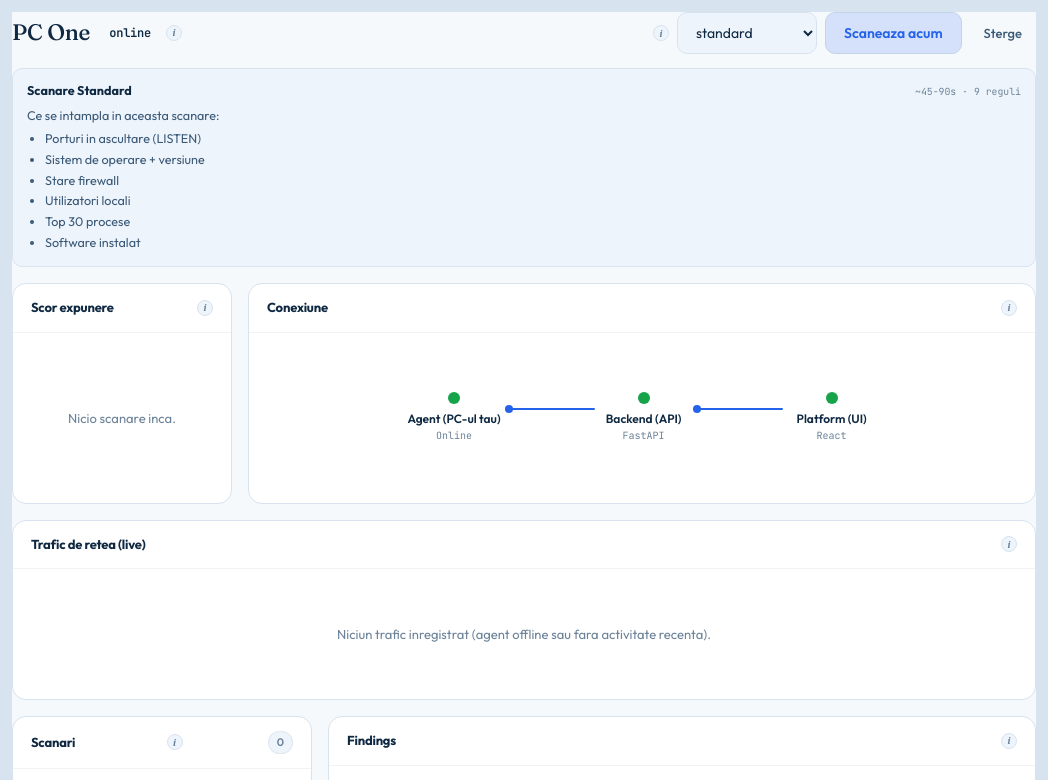
Scenario: DeviceWorkspace › schimba explainer-ul cand selectezi deep
Select "deep" in the dropdown named "tip scanare" at (747, 33), box [677,12,817,54]
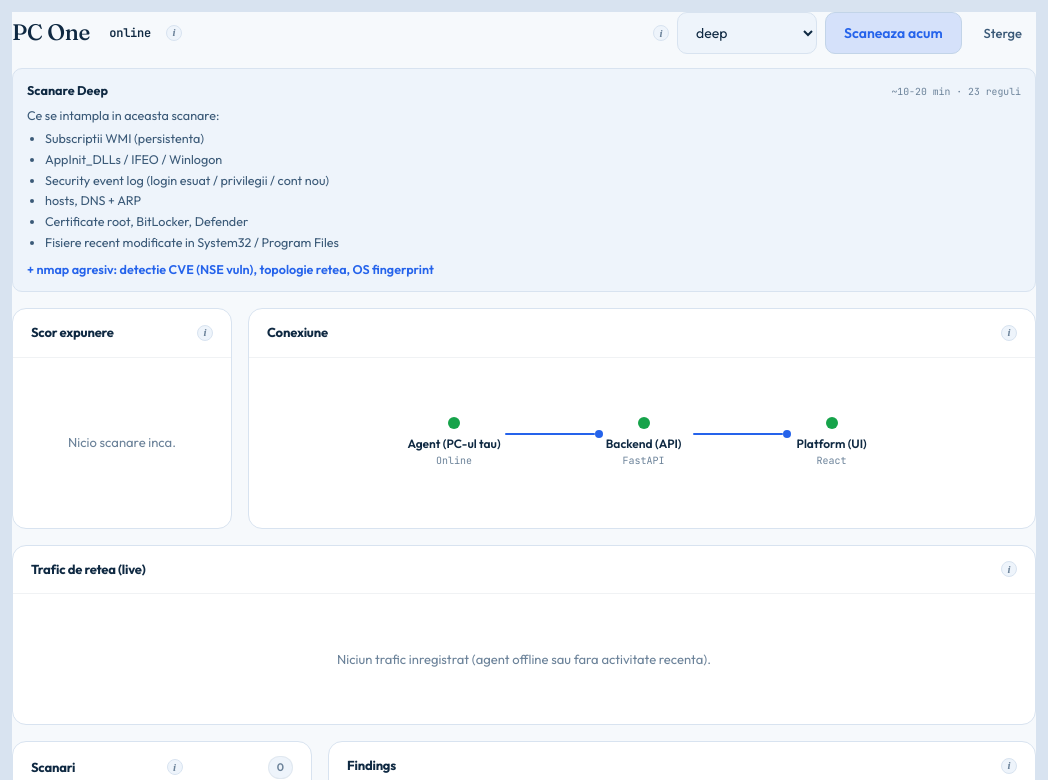
Now the text "Scanare Deep" is shown, box [27,81,108,100]
